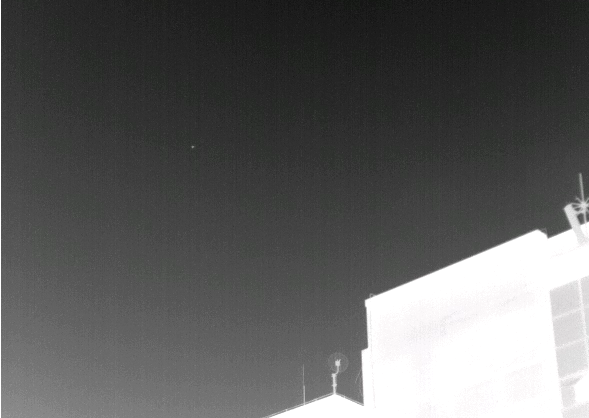dim target: (190, 144, 195, 149)
